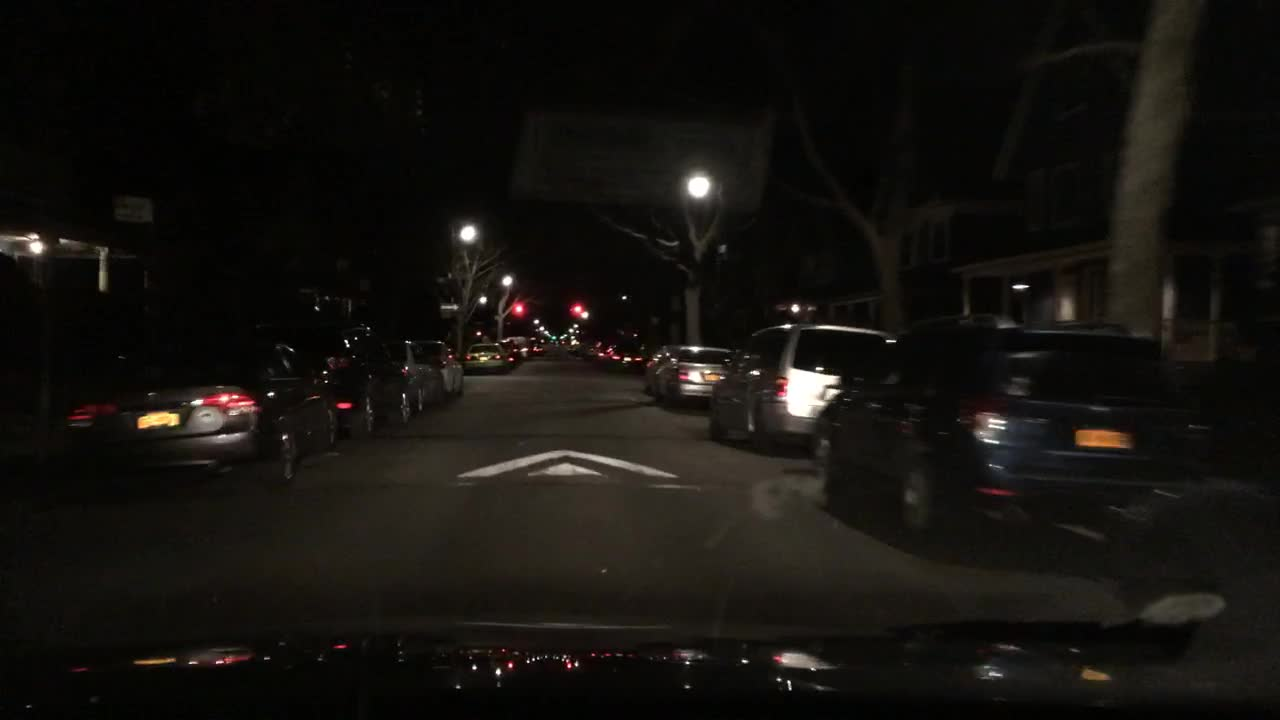car: (811, 308, 1191, 536), (60, 338, 337, 480), (706, 322, 894, 453), (293, 329, 414, 436), (640, 342, 731, 407), (387, 339, 447, 414), (416, 336, 467, 397), (458, 341, 507, 375), (606, 336, 647, 374), (581, 339, 607, 363), (569, 333, 597, 355), (503, 337, 522, 365), (522, 341, 546, 358)
traffic light: (570, 297, 584, 326), (512, 300, 526, 326)
traffic sign: (113, 196, 155, 224), (438, 300, 463, 313)
